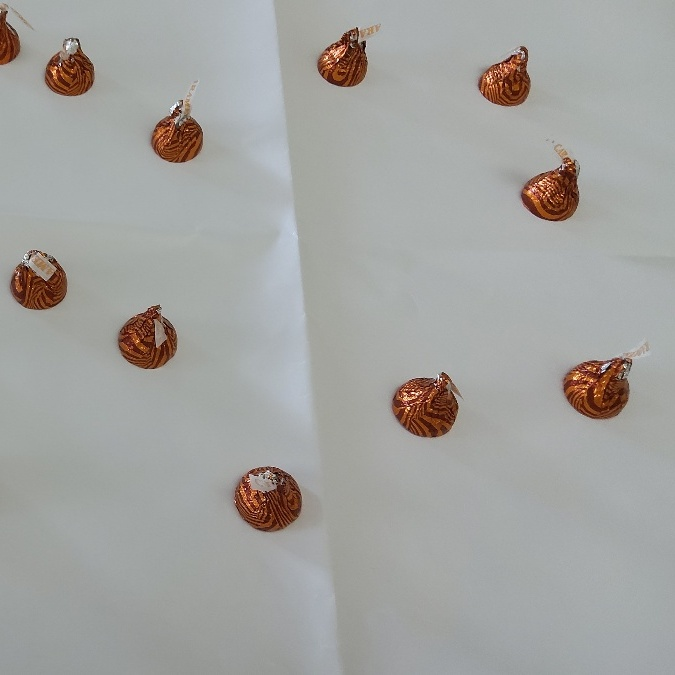chocolate_gold: (6, 247, 68, 311), (567, 357, 629, 421), (118, 305, 180, 368), (236, 467, 298, 530), (395, 372, 457, 435), (522, 160, 584, 223), (468, 47, 530, 110), (313, 32, 371, 90), (146, 108, 204, 166), (39, 40, 97, 97)
